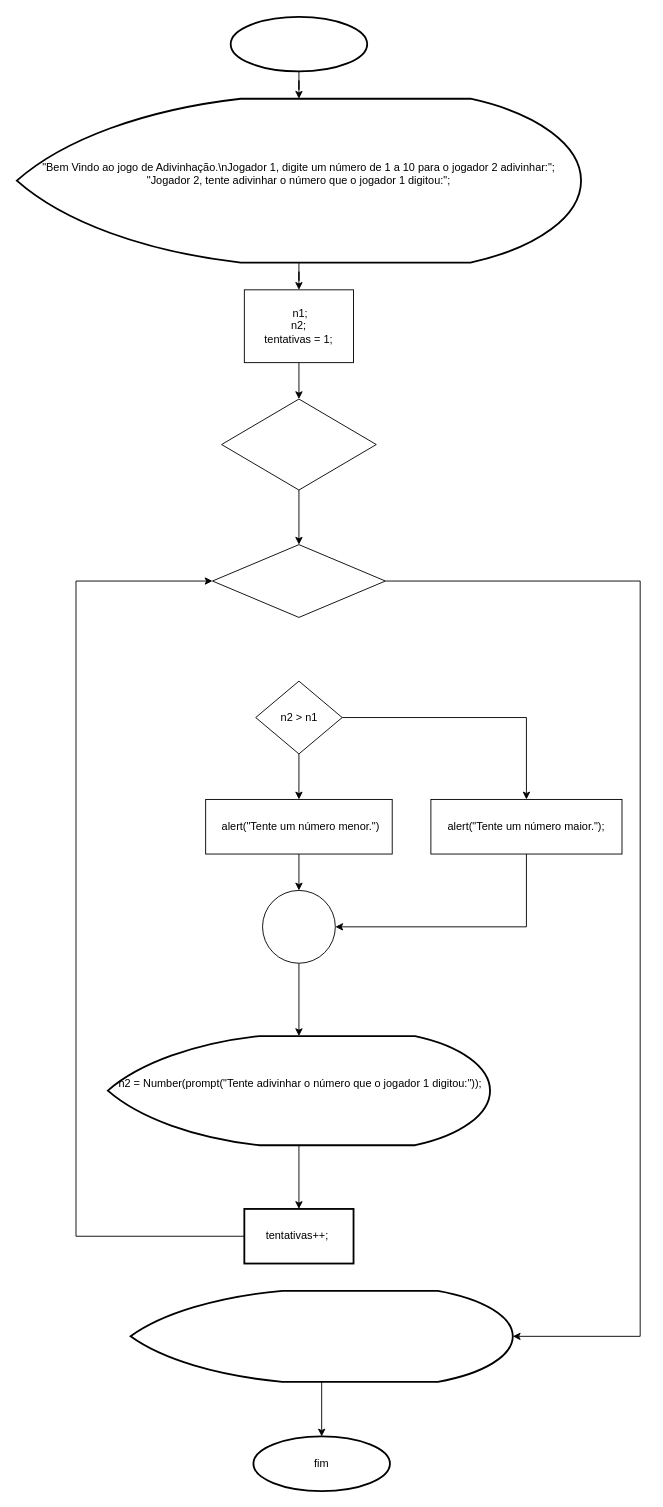
Image size: 663x1507. Some labels were removed from this diagram. Here are the shapes that lost their labels. From the top down, the centre of each, then its label:
At point 298,43: "Inicio".
At point 298,444: "numero >= 0".
At point 298,580: "n1 !== n2".
At point 321,1335: "'jogador 2, você acertou o número '+n1+' em '+tentativas+' tentativas!';".
